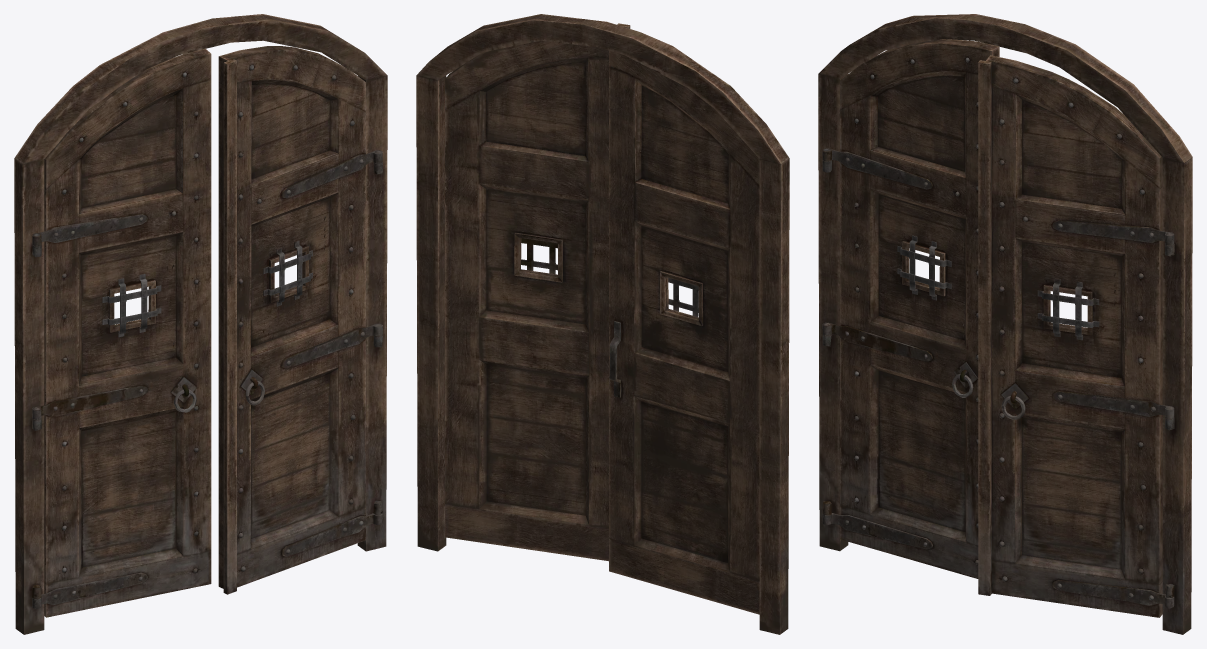
Rendered from large_castle_door.glb.
3 views of the same model, side by side, from view 1: azimuth 30°, elevation 25°; view 2: azimuth 150°, elevation 25°; view 3: azimuth 330°, elevation 25° (orthographic).
Parts seen in each view (by area): view 1: large_castle_door_left, large_castle_door_right, large_castle_door_frame; view 2: large_castle_door_right, large_castle_door_left, large_castle_door_frame; view 3: large_castle_door_right, large_castle_door_left, large_castle_door_frame.
Boxes of the visible parts, x1,y1,x2,y2 form: large_castle_door_left: (32,48,211,617); large_castle_door_right: (218,46,382,594); large_castle_door_frame: (14,14,387,634); large_castle_door_right: (445,23,630,561); large_castle_door_left: (609,50,759,614); large_castle_door_frame: (416,14,789,634); large_castle_door_right: (978,55,1174,617); large_castle_door_left: (822,39,999,578); large_castle_door_frame: (818,14,1192,634).
Bounding box in the file's own units: 2.01 × 2.96 × 0.2963.
Materials: 1 (1 with a texture image).
